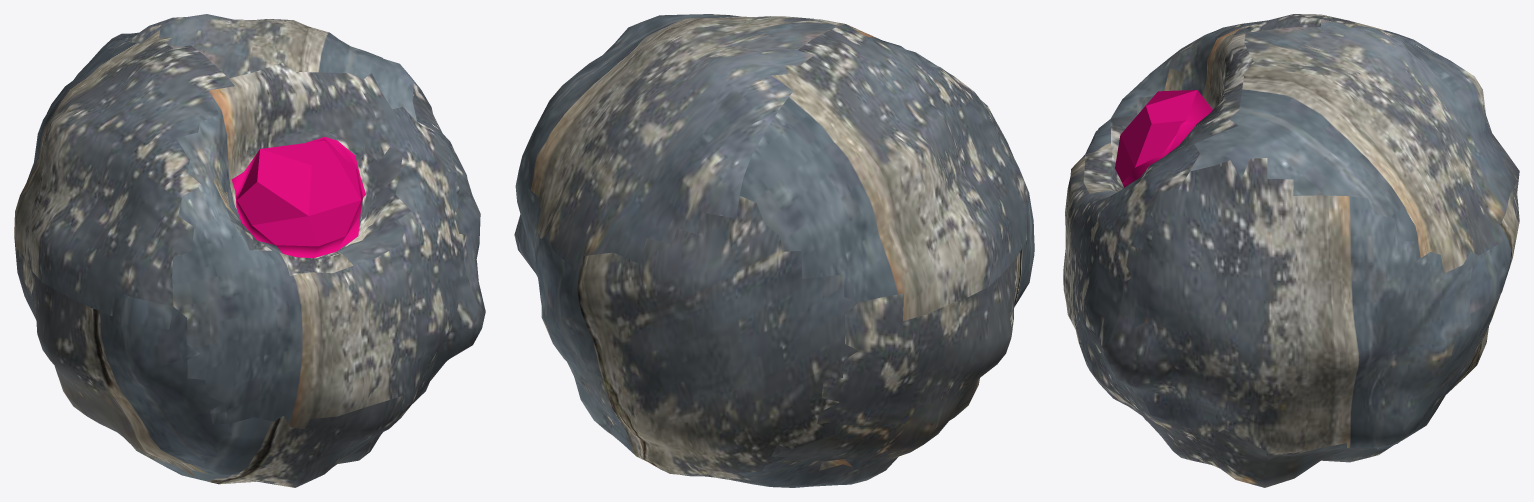
Rendered from geode.gltf.
3 views of the same model, side by side, from view 1: azimuth 30°, elevation 25°; view 2: azimuth 150°, elevation 25°; view 3: azimuth 270°, elevation 25° (orthographic). The views are drawn at different scales.
Parts seen in each view (by area): view 1: Cube, Cube.001; view 2: Cube; view 3: Cube, Cube.001.
Boxes of the visible parts, <box> form: Cube: <box>14,14,485,487</box>; Cube.001: <box>237,140,361,246</box>; Cube: <box>514,14,1034,487</box>; Cube: <box>1063,14,1519,487</box>; Cube.001: <box>1115,90,1197,182</box>.
Bounding box in the file's own units: 1.8 × 1.69 × 1.74.
2 materials, 1 textured.
